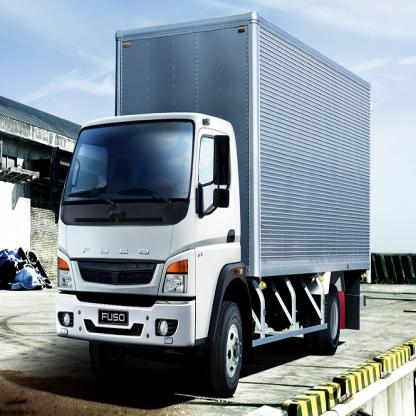truck: (53, 8, 372, 397)
